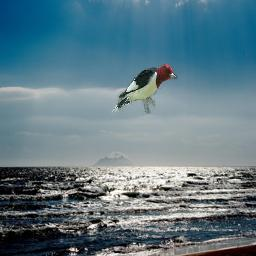Woodpecker: (112, 59, 179, 115)
